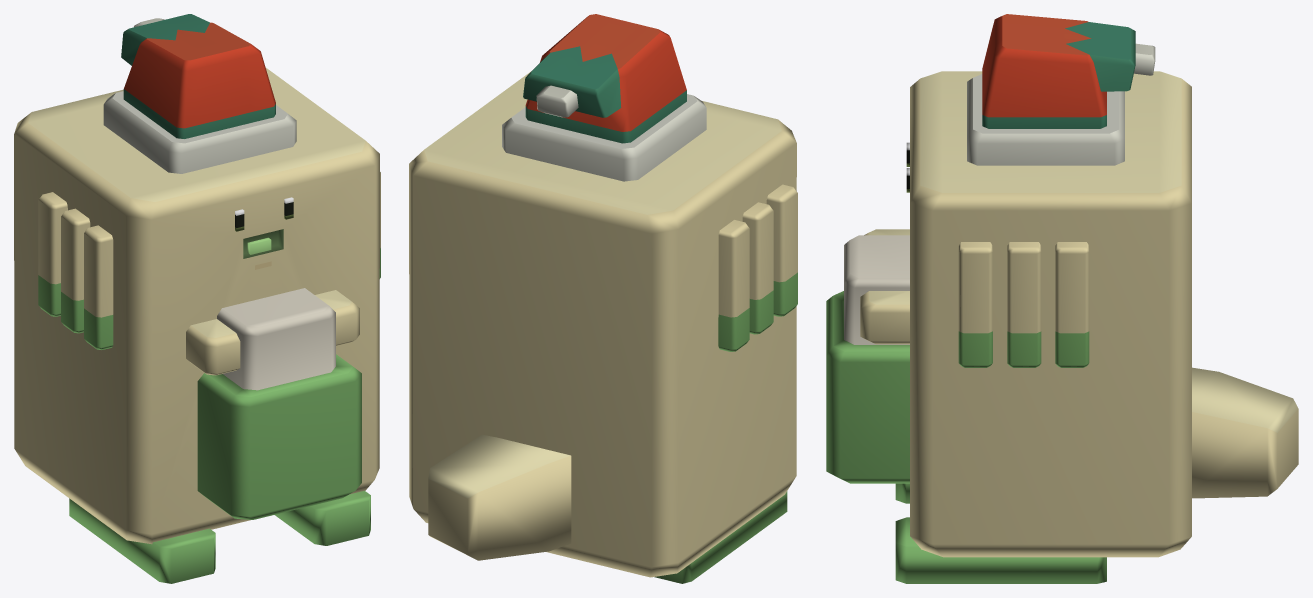
Rendered from PM113_Christmashat_R.fbx.
The picture shows the model from 3 angles, left to right: view 1: azimuth 30°, elevation 25°; view 2: azimuth 150°, elevation 25°; view 3: azimuth 270°, elevation 25°; orthographic projection. The views are drawn at different scales.
Parts seen in each view (by area): view 1: model; view 2: model; view 3: model.
Boxes of the visible parts, box(x1,y1,x2,y2) form: model: box(14, 14, 380, 583); model: box(409, 14, 797, 583); model: box(826, 14, 1298, 583).
Bounding box in the file's own units: 2.03 × 3.2 × 2.75.
